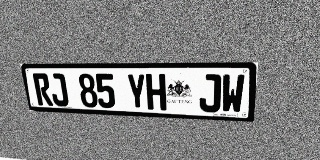5: (95, 74, 116, 108)
8: (77, 74, 98, 108)
H: (146, 74, 166, 110)
J: (199, 74, 221, 113), (48, 73, 69, 106)
R: (32, 73, 53, 106)
W: (221, 74, 245, 114)
Y: (126, 74, 147, 110)
